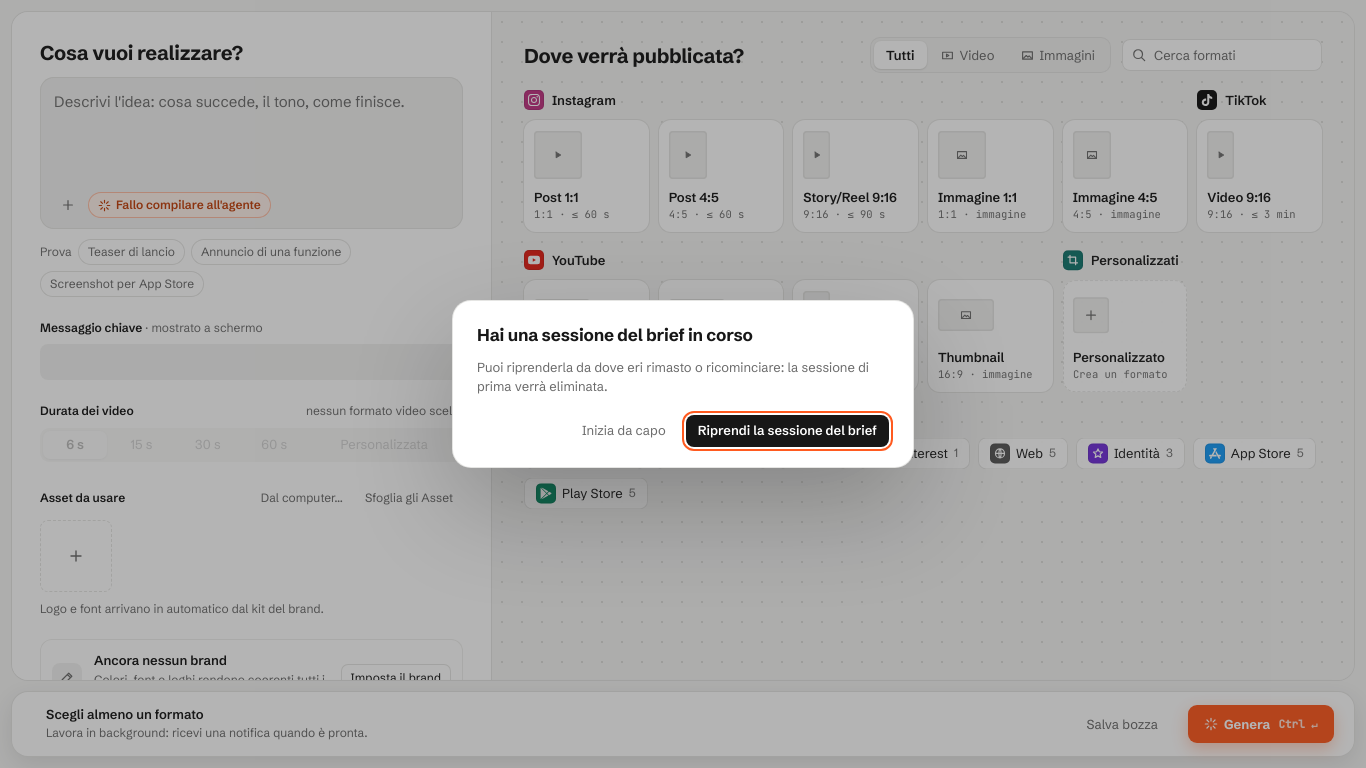
Test: NewCreative · Con l'agente (decisions 1410–1411, 1419, 1422) › an idle session with messages asks: Riprendi brings back the form in Con l'agente
Check: the text box labelled "Cosa vuoi realizzare?" is empty, box x1=54 y1=91 x2=449 y2=181
Click the button "Riprendi la sessione del brief". click: (787, 431)
box: x1=686 y1=415 x2=889 y2=447
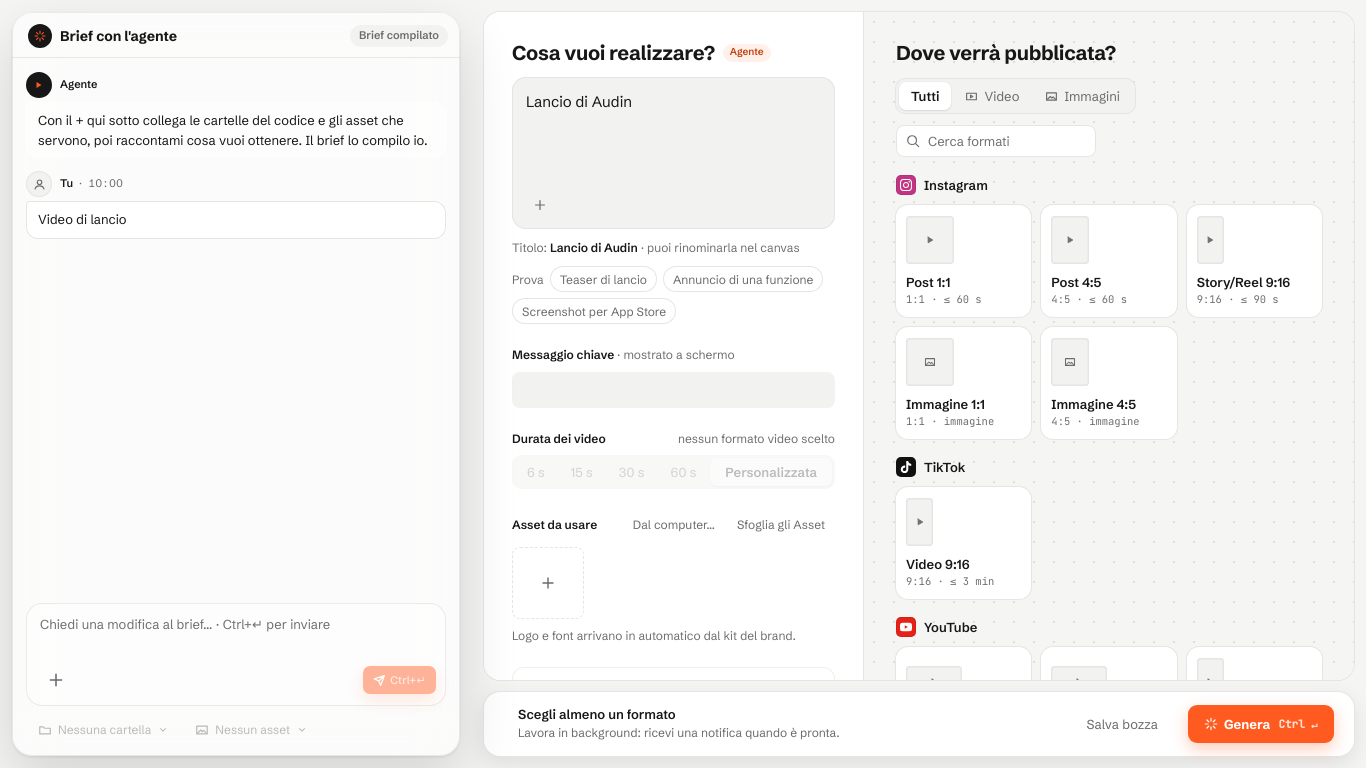
Check: the text box labelled "Cosa vuoi realizzare?" holds "Lancio di Audin", box x1=526 y1=91 x2=821 y2=181
